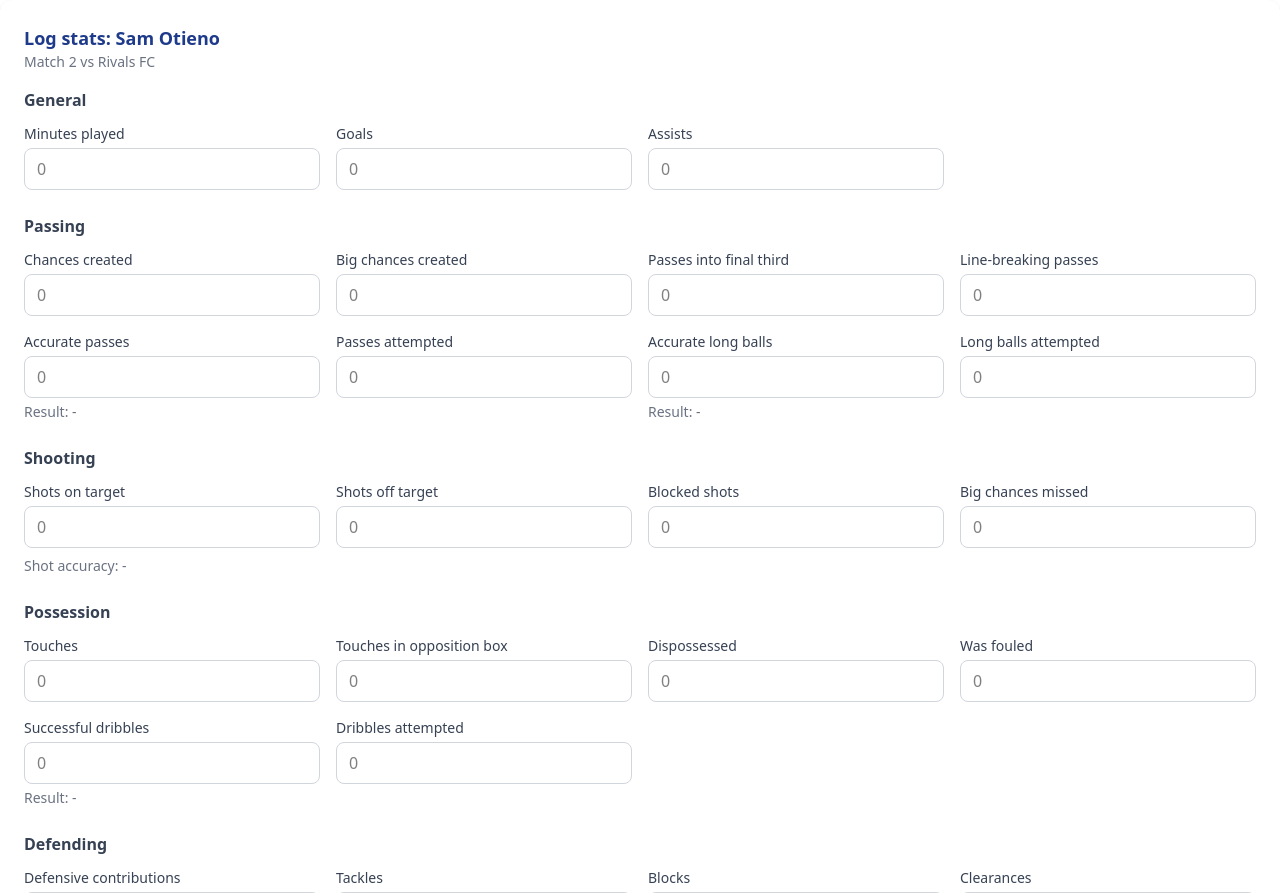
it: shows an error when saving fails
Type "90" into the number field labelled "Minutes played".
click(172, 169); type("90")  # box [24,148,320,190]
(page scrolled)
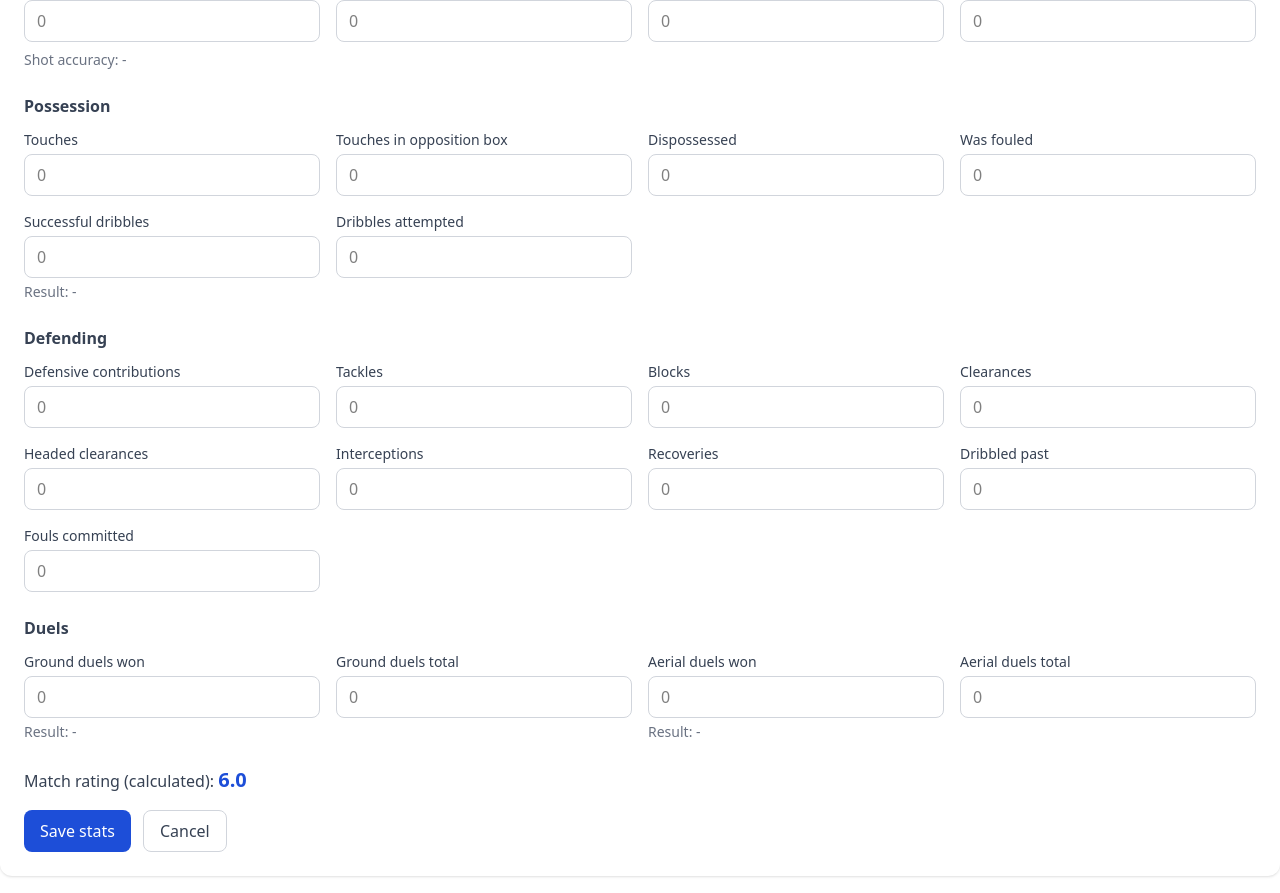
Click the button "Save stats".
click(77, 831)  # box [24,810,131,852]
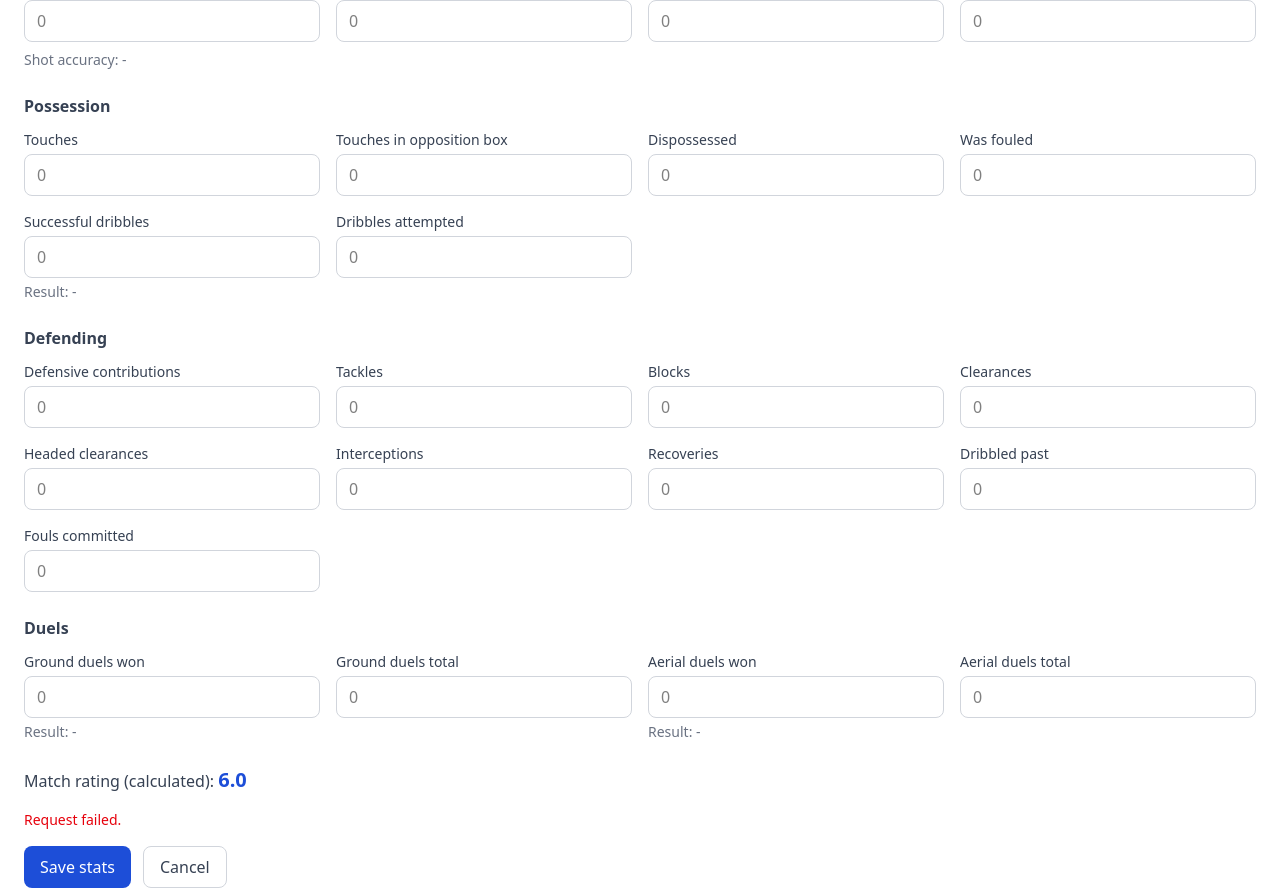
Result: the text "Request failed." is shown at [24,810,121,829]
